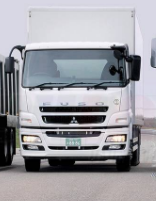truck: (4, 7, 140, 172)
